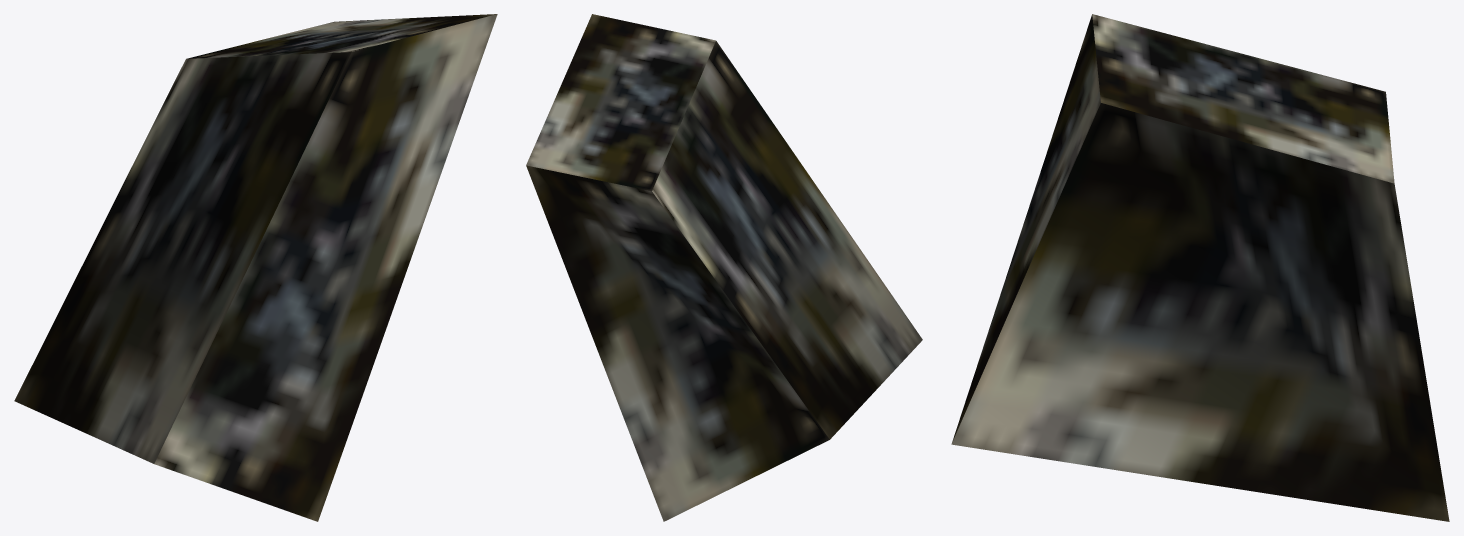
File: USA - Armor - Avenger - Damage State 4 - AVAvnger_D4.glb
3 renders of one model, left to right at view 1: azimuth 30°, elevation 25°; view 2: azimuth 150°, elevation 25°; view 3: azimuth 270°, elevation 25°, orthographic. The views are drawn at different scales.
Visible parts, largest first — view 1: AVAVNGER_D4; view 2: AVAVNGER_D4; view 3: AVAVNGER_D4.
Boxes of the visible parts, x1,y1,x2,y2 form: AVAVNGER_D4: (14,14,497,521); AVAVNGER_D4: (526,14,922,521); AVAVNGER_D4: (951,14,1449,521).
Bounding box in the file's own units: 3.95 × 4.51 × 3.66.
1 material, 1 textured.
